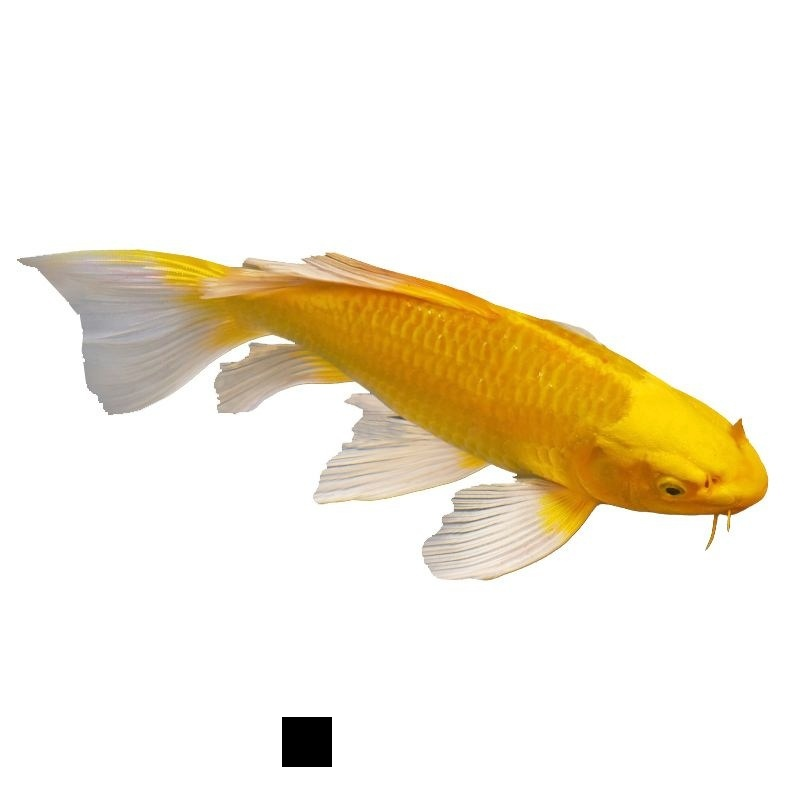fry: (46, 190, 782, 597)
